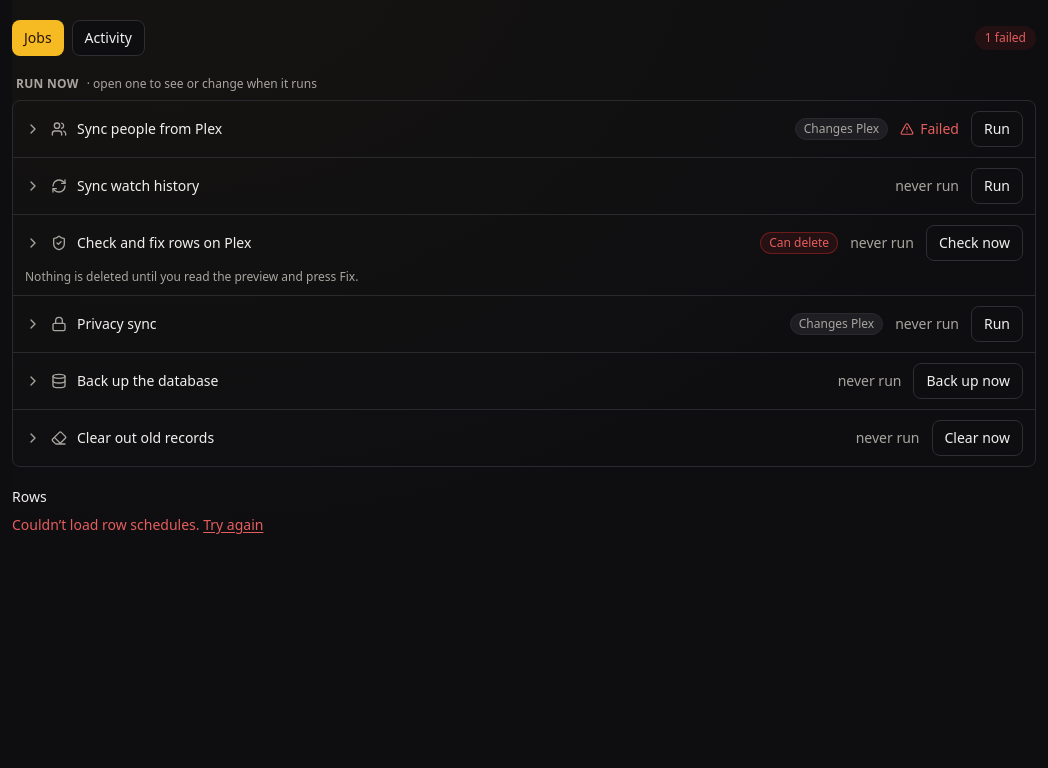
Test case: JobsPage — sync check › shows a failed job's error on its card and flags the count
Expected: the element with test id "job-sync.users" shows "Failed", 920,119 -> 959,138
Expected: the button "1 failed" is shown, 975,26 -> 1036,50
The reason is one click away.
Click the button "Sync people from Plex" at (150, 128), box 25,119 -> 783,139
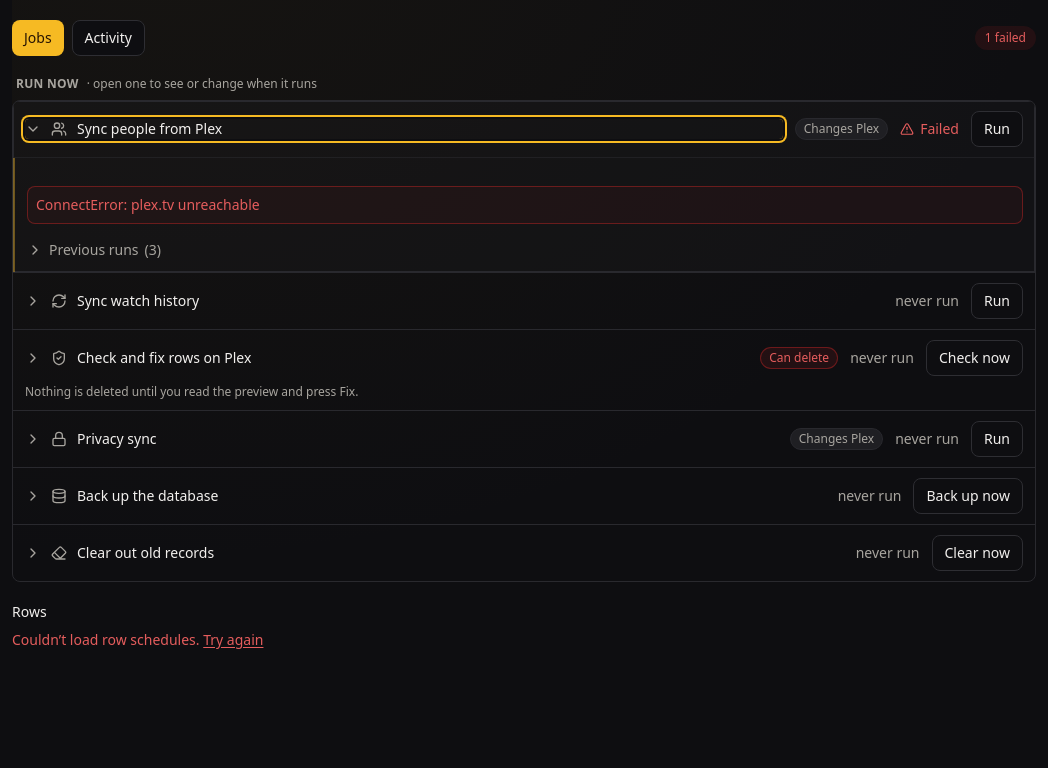
Now the element with test id "job-sync.users" shows "plex.tv unreachable", box 36,195 -> 260,214
